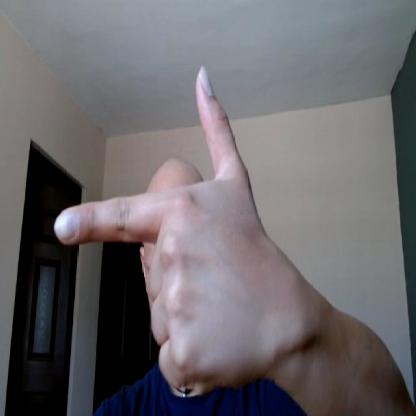G: (55, 65, 267, 388)
